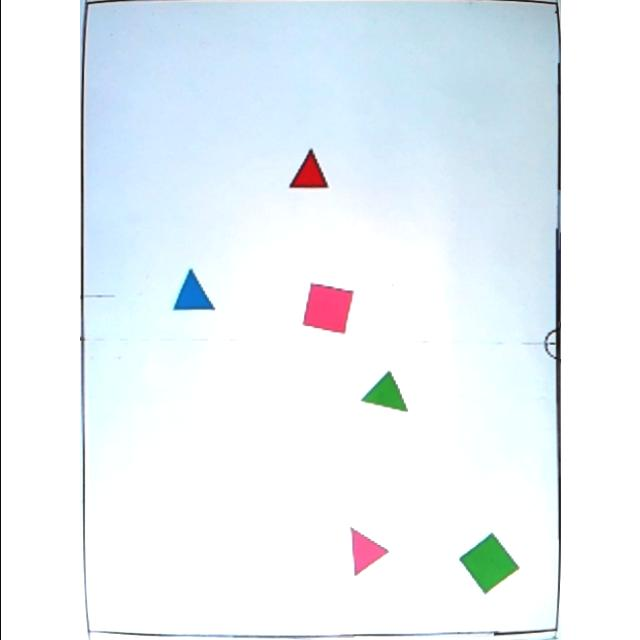blueTriangle: (171, 268, 217, 314)
greenSquare: (458, 532, 522, 596)
greenTriangle: (358, 369, 410, 416)
pinkSquare: (301, 282, 355, 334)
pinkTriangle: (352, 525, 390, 577)
redTriangle: (288, 146, 332, 192)
